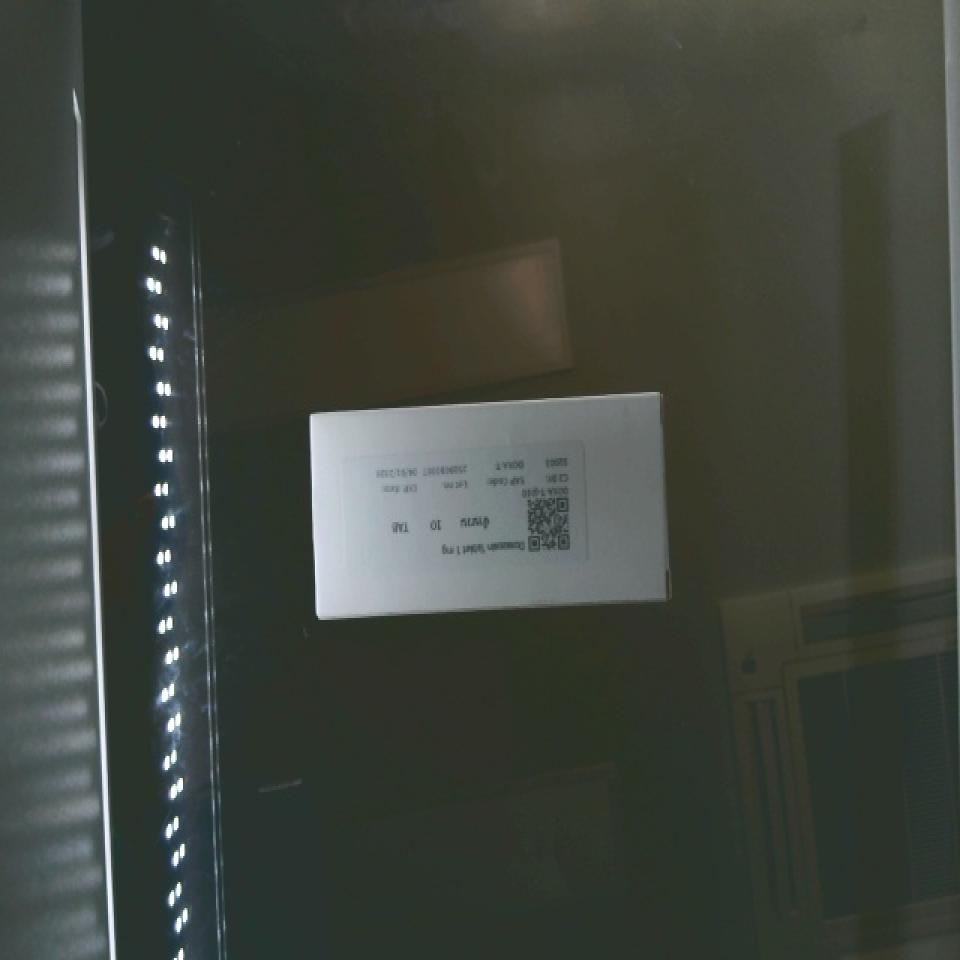medicine_box: (298, 389, 672, 617)
qr_code: (506, 477, 586, 564)
